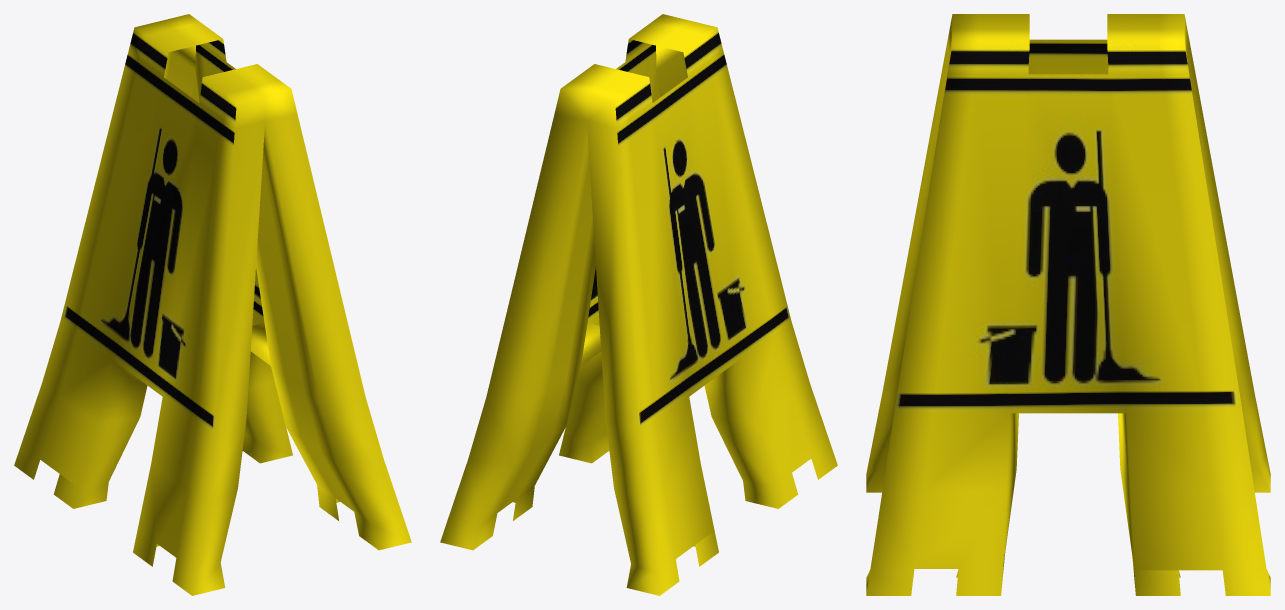
Rendered from CleaningSign_CLEAN.fbx.
The picture shows the model from 3 angles, left to right: view 1: azimuth 30°, elevation 25°; view 2: azimuth 150°, elevation 25°; view 3: azimuth 270°, elevation 25°; orthographic projection. The views are drawn at different scales.
Visible parts, largest first — view 1: CleaningSign_CLEAN; view 2: CleaningSign_CLEAN; view 3: CleaningSign_CLEAN.
Part boxes in pixels (x1,y1,x2,y2): CleaningSign_CLEAN: [14, 14, 411, 595]; CleaningSign_CLEAN: [440, 14, 837, 595]; CleaningSign_CLEAN: [866, 14, 1270, 595].
Size of the model in its own units: 33.22 by 64.44 by 46.68.
